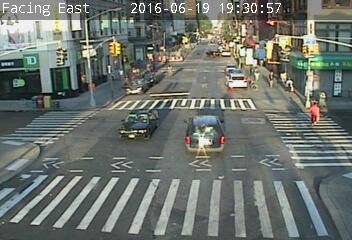neg: (63, 146, 83, 173), (231, 161, 251, 188), (28, 163, 48, 189), (122, 178, 141, 203), (239, 127, 257, 151), (42, 101, 60, 125), (179, 165, 195, 187), (201, 129, 217, 150), (193, 87, 209, 107), (157, 131, 172, 151), (84, 183, 97, 200), (104, 98, 116, 114), (239, 91, 251, 106), (163, 98, 173, 111), (225, 92, 234, 104), (183, 18, 192, 30), (225, 63, 231, 71), (226, 44, 230, 50), (204, 56, 207, 60)
pos: (303, 100, 323, 126), (315, 87, 330, 107), (263, 68, 278, 87), (284, 77, 297, 95), (279, 69, 289, 83)
